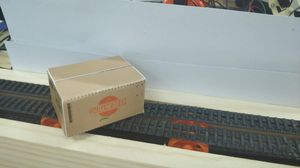box1: (45, 54, 144, 137)
